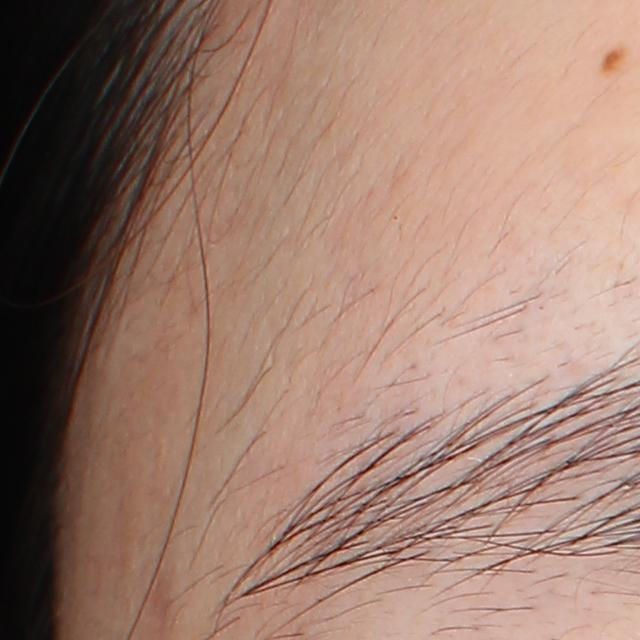nevus: (595, 47, 623, 72)
